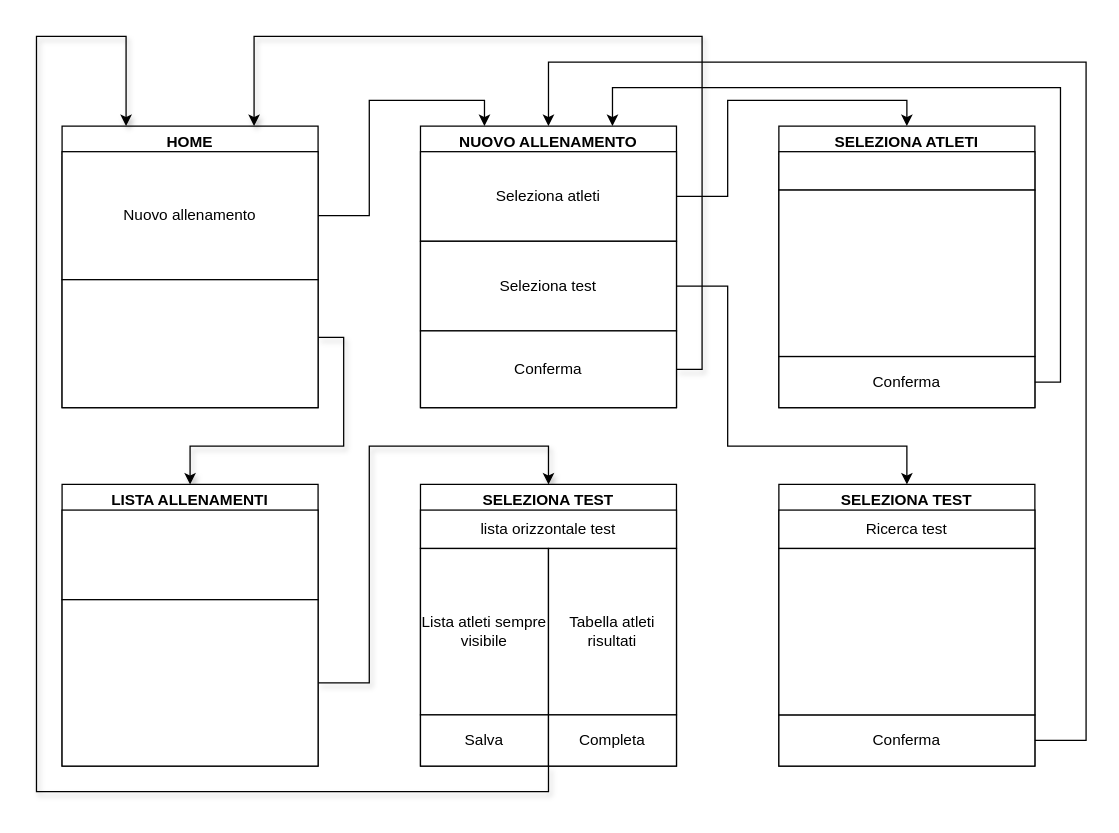
Some shapes in this 1119 by 833 pixel diagram are drawn without their labels. Here are the shapes that lost their labels. From the top down, the centre of each, then its label:
At (x=906, y=170): "Ricerca atleta".
At (x=906, y=272): "Lista atleti con checkbox".
At (x=189, y=343): "Continua allenamento".
At (x=189, y=554): "Ricerca allenamento".
At (x=906, y=631): "Lista test con checkbox".
At (x=189, y=682): "Seleziona allenamento".
